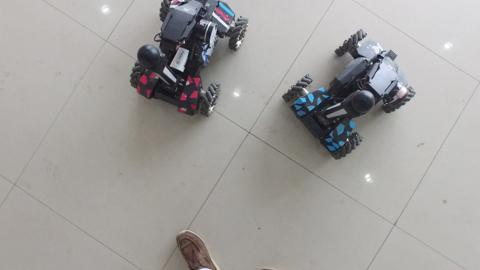chariot: (280, 23, 422, 164), (121, 1, 252, 127)
